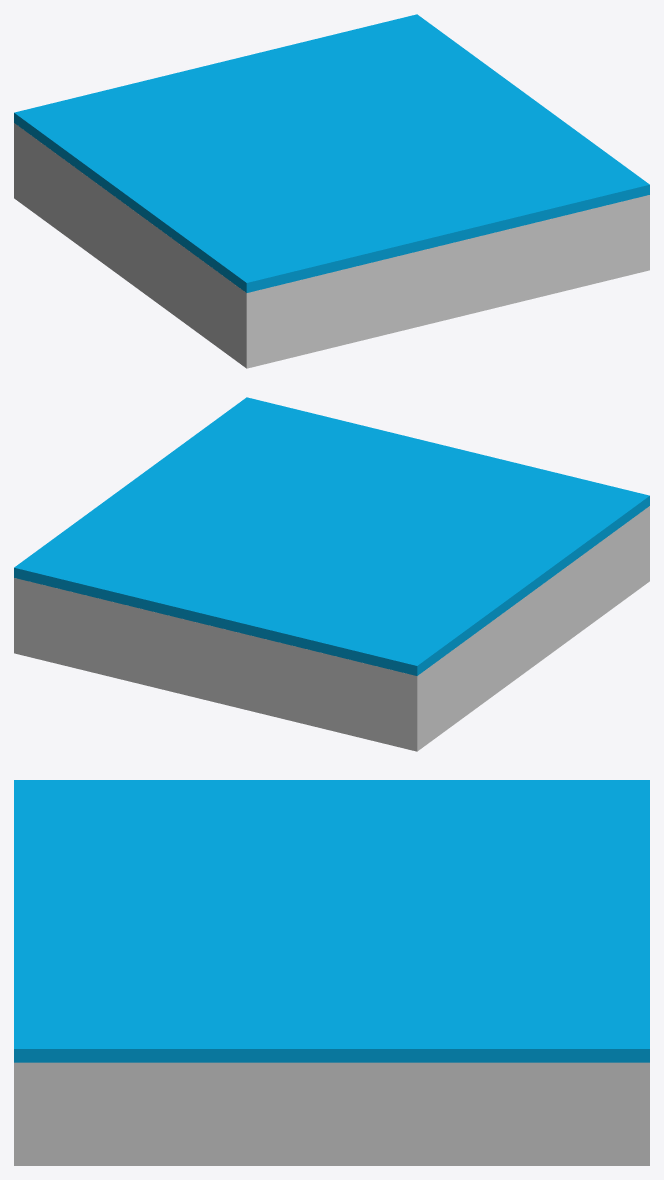
File: stack_dash_01.fbx
The picture shows the model from 3 angles, top to bottom: view 1: azimuth 30°, elevation 25°; view 2: azimuth 150°, elevation 25°; view 3: azimuth 270°, elevation 25°; orthographic projection. The views are drawn at different scales.
Visible parts, largest first — view 1: Cube.101, Cube.001, Cube.002, Cube.003, Cube.004, Cube.005, Cube.006, Cube.008, Cube.009, Cube.010, Cube.007, Cube.011 (+89 smaller); view 2: Cube.101, Cube.100, Cube.097, Cube.098, Cube.099, Cube.091, Cube.092, Cube.093, Cube.095, Cube.096, Cube.094, Cube.051 (+89 smaller); view 3: Cube.101, Cube.020, Cube.040, Cube.061, Cube.081, Cube.010, Cube.030, Cube.050, Cube.060, Cube.071, Cube.091, Cube.014 (+89 smaller).
Part boxes in pixels (x1=…): Cube.101: x1=14, y1=123, x2=649, y2=368; Cube.001: x1=223, y1=256, x2=286, y2=292; Cube.002: x1=264, y1=246, x2=327, y2=283; Cube.003: x1=304, y1=236, x2=367, y2=273; Cube.004: x1=344, y1=226, x2=407, y2=263; Cube.005: x1=385, y1=217, x2=448, y2=253; Cube.006: x1=425, y1=207, x2=488, y2=243; Cube.008: x1=506, y1=187, x2=569, y2=224; Cube.009: x1=546, y1=177, x2=609, y2=214; Cube.010: x1=586, y1=167, x2=649, y2=204; Cube.007: x1=466, y1=197, x2=528, y2=233; Cube.011: x1=200, y1=239, x2=263, y2=275; Cube.101: x1=14, y1=506, x2=649, y2=751; Cube.100: x1=377, y1=639, x2=440, y2=675; Cube.097: x1=256, y1=609, x2=319, y2=646; Cube.098: x1=296, y1=619, x2=359, y2=656; Cube.099: x1=336, y1=629, x2=399, y2=666; Cube.091: x1=14, y1=550, x2=77, y2=587; Cube.092: x1=54, y1=560, x2=117, y2=597; Cube.093: x1=94, y1=570, x2=157, y2=607; Cube.095: x1=175, y1=590, x2=238, y2=626; Cube.096: x1=215, y1=600, x2=278, y2=636; Cube.094: x1=135, y1=580, x2=197, y2=616; Cube.051: x1=470, y1=571, x2=533, y2=607; Cube.101: x1=14, y1=1062, x2=649, y2=1165; Cube.020: x1=77, y1=1022, x2=141, y2=1062; Cube.040: x1=204, y1=1022, x2=268, y2=1062; Cube.061: x1=395, y1=1022, x2=459, y2=1062; Cube.081: x1=522, y1=1022, x2=586, y2=1062; Cube.010: x1=14, y1=1022, x2=77, y2=1062; Cube.030: x1=141, y1=1022, x2=204, y2=1062; Cube.050: x1=268, y1=1022, x2=331, y2=1062; Cube.060: x1=332, y1=1022, x2=395, y2=1062; Cube.071: x1=459, y1=1022, x2=522, y2=1062; Cube.091: x1=586, y1=1022, x2=649, y2=1062; Cube.014: x1=77, y1=860, x2=141, y2=887.
Size of the model in its own units: 4 by 0.8123 by 4.
